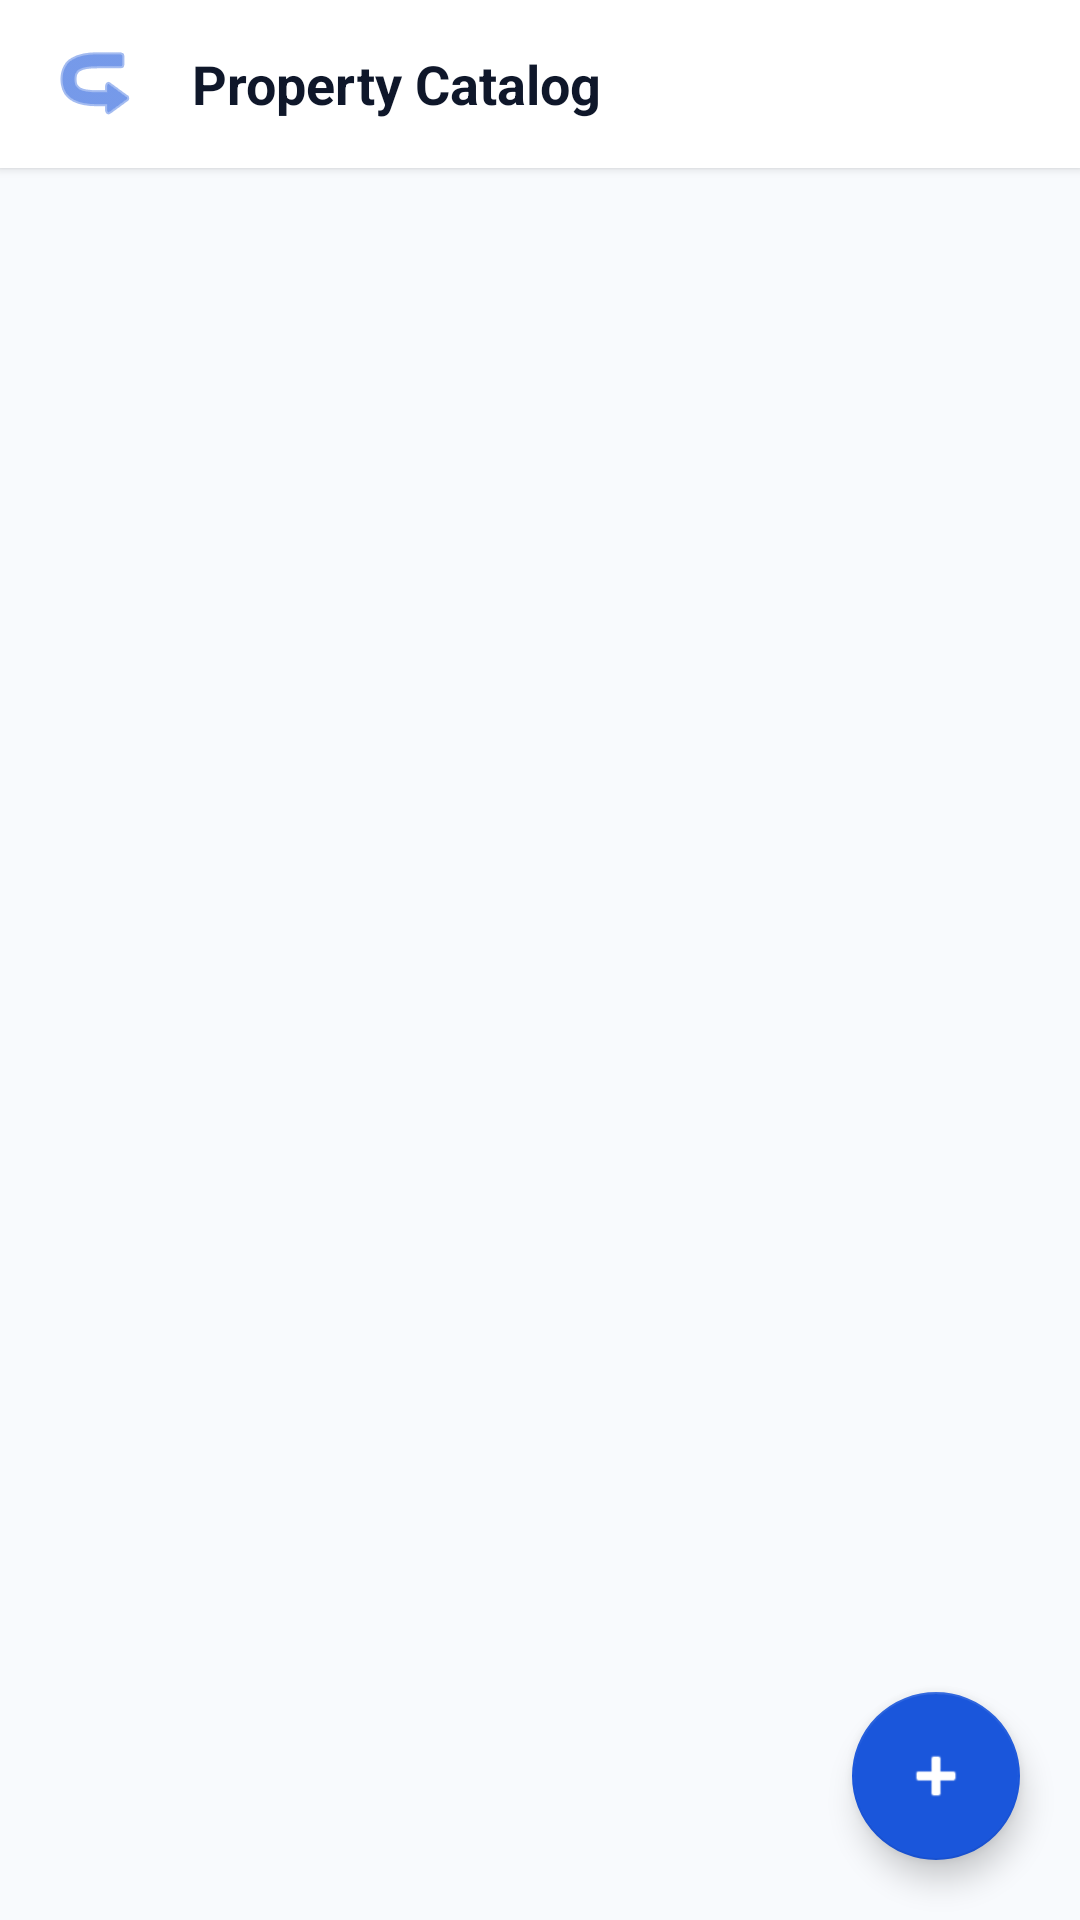

Where icons sit on this 1080 × 1920 app screen, as bbox=[x1, y1, x2, y2]:
Add Property: bbox=[852, 1692, 1020, 1860]
